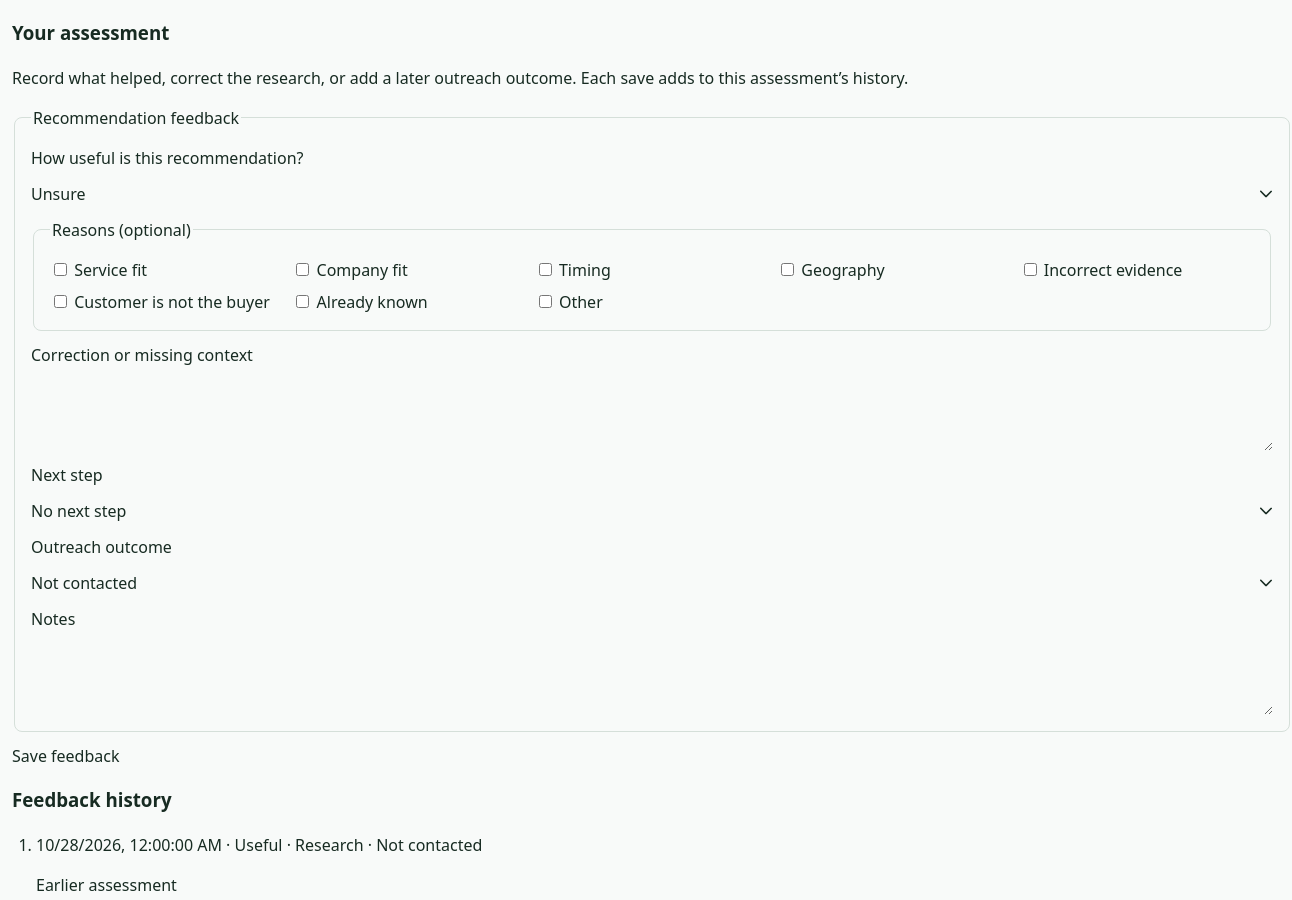
preserves corrections after failure and appends feedback without replacing history
Type "Actually a supplier" into the text box labelled "Correction or missing context".
click(652, 414); type("Actually a supplier")  # box [31,378,1273,450]
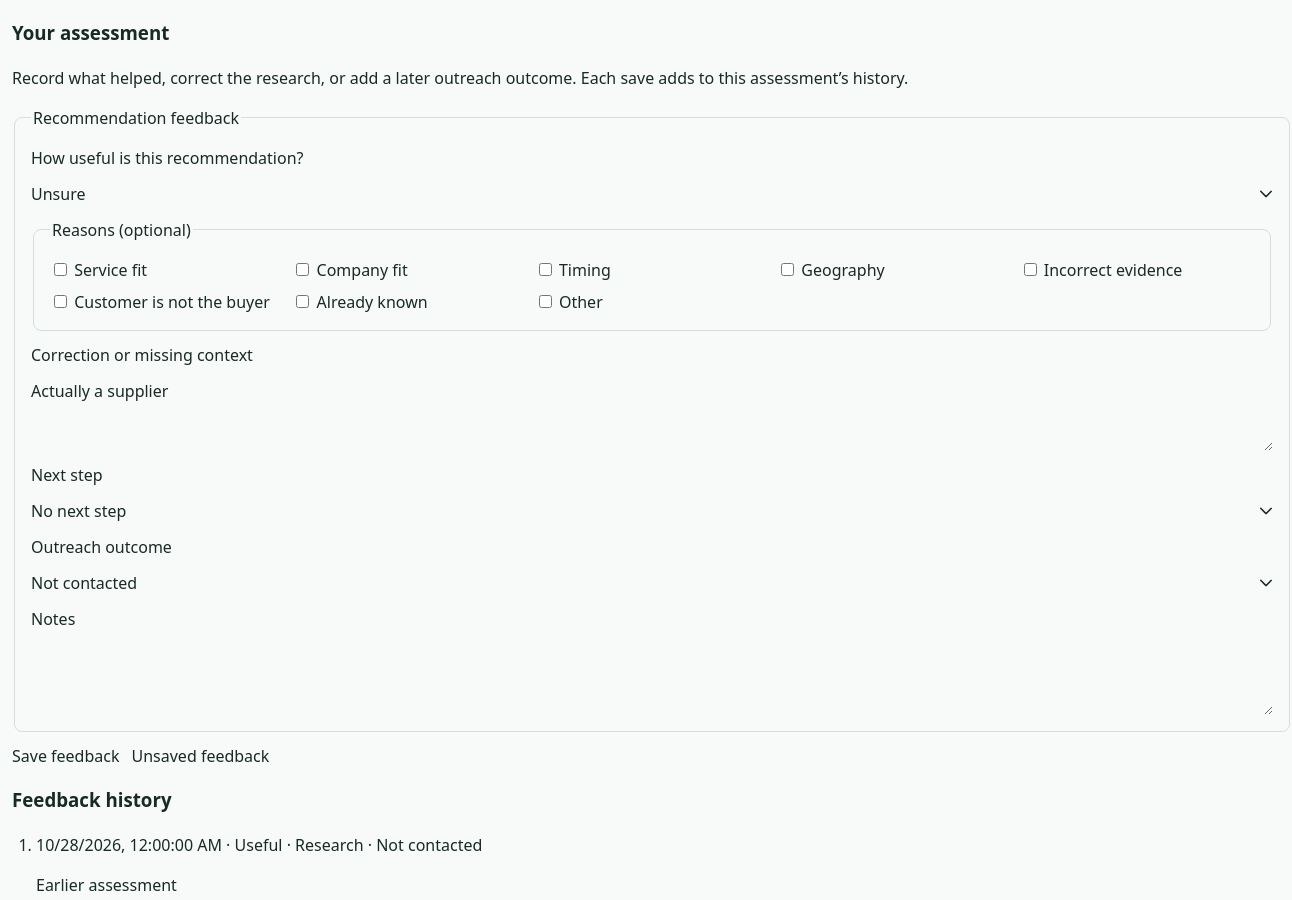
Submit the form
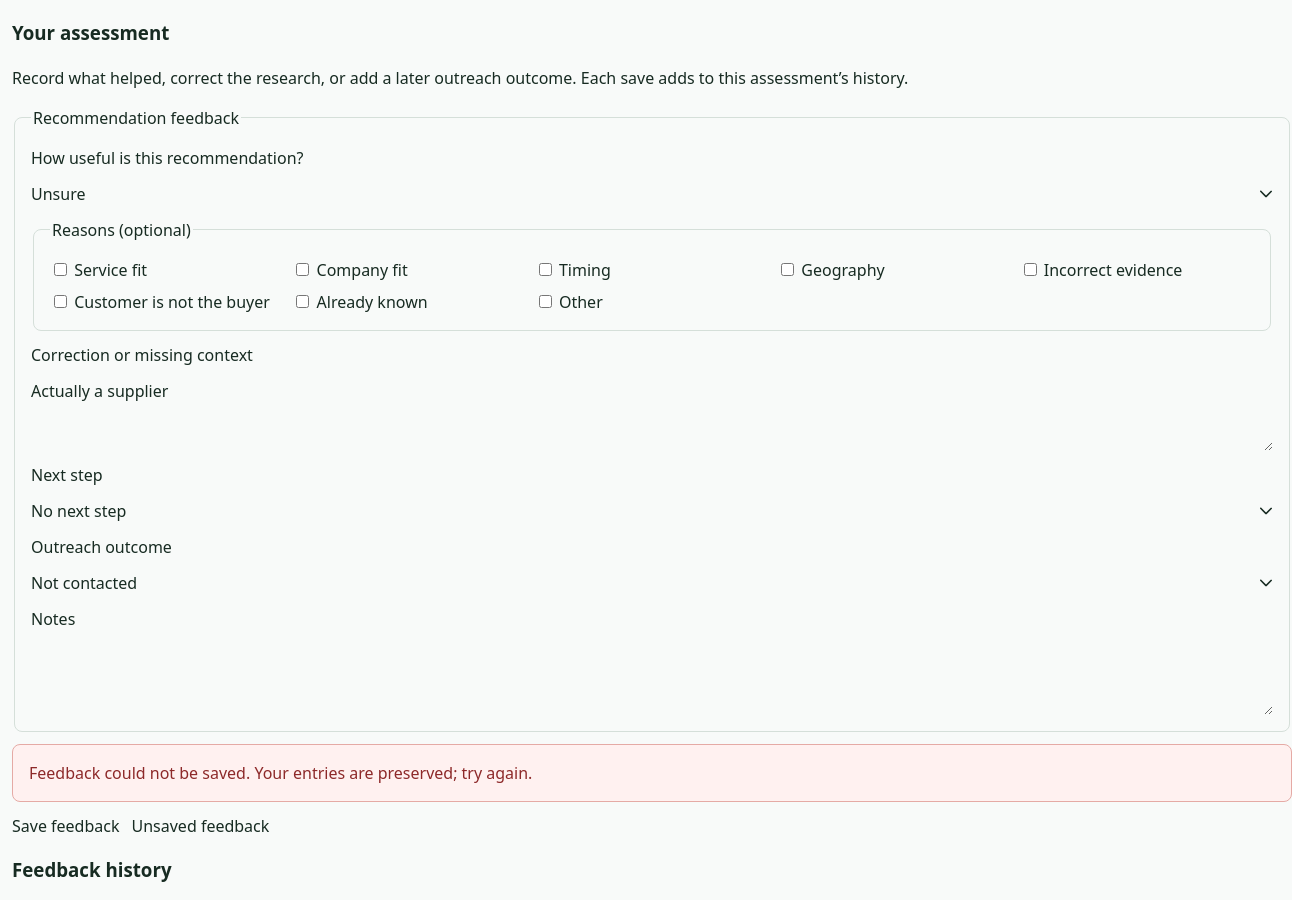
Expected: the text "Feedback could not be saved" is shown, [29,762,532,784]
Submit the form
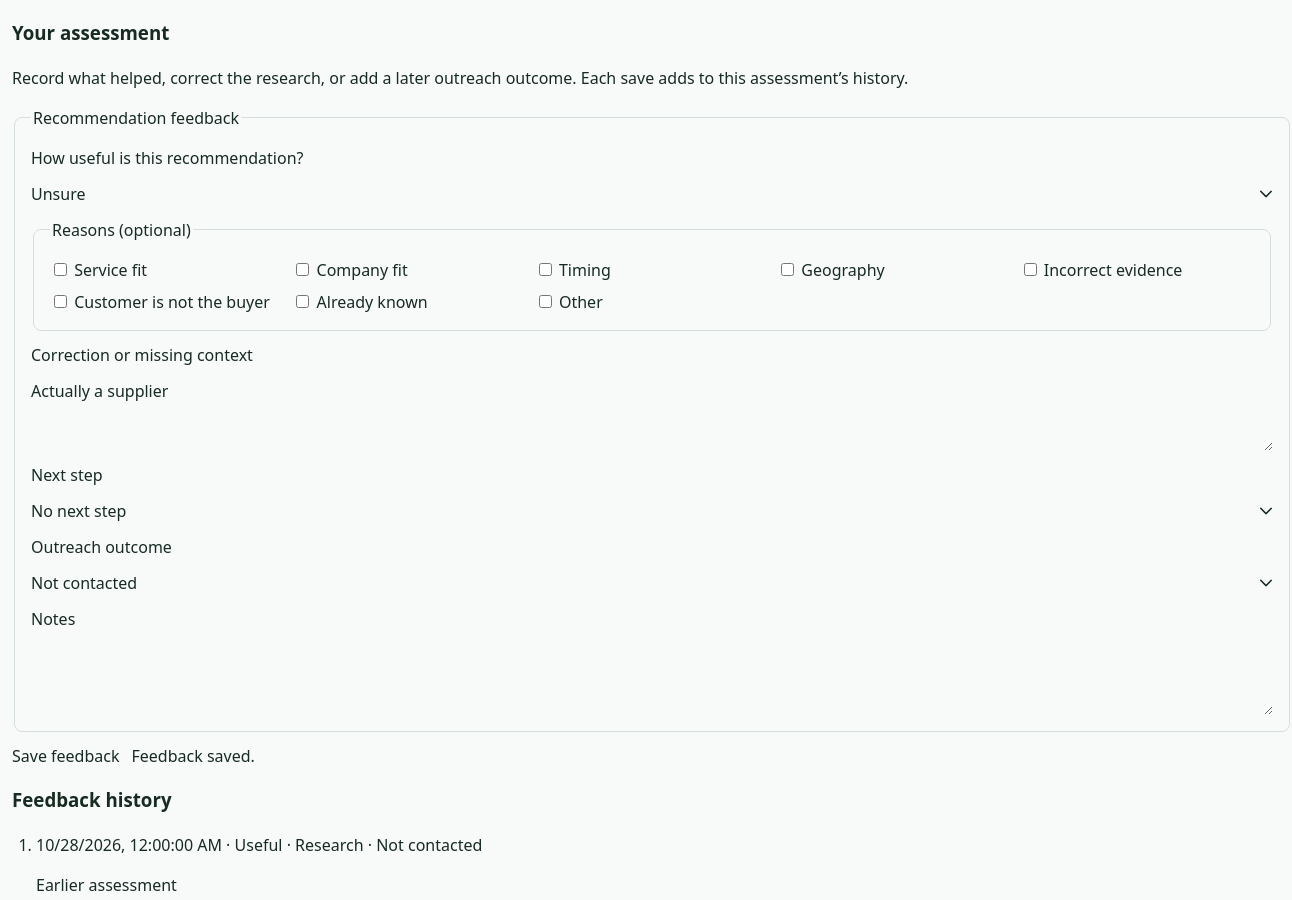
Expected: the text "Earlier assessment" is shown, [36,874,177,896]
Expected: the text "Feedback saved" is shown, [132,744,255,766]
